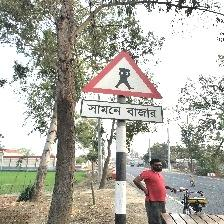Market-in-front: (80, 49, 165, 123)
